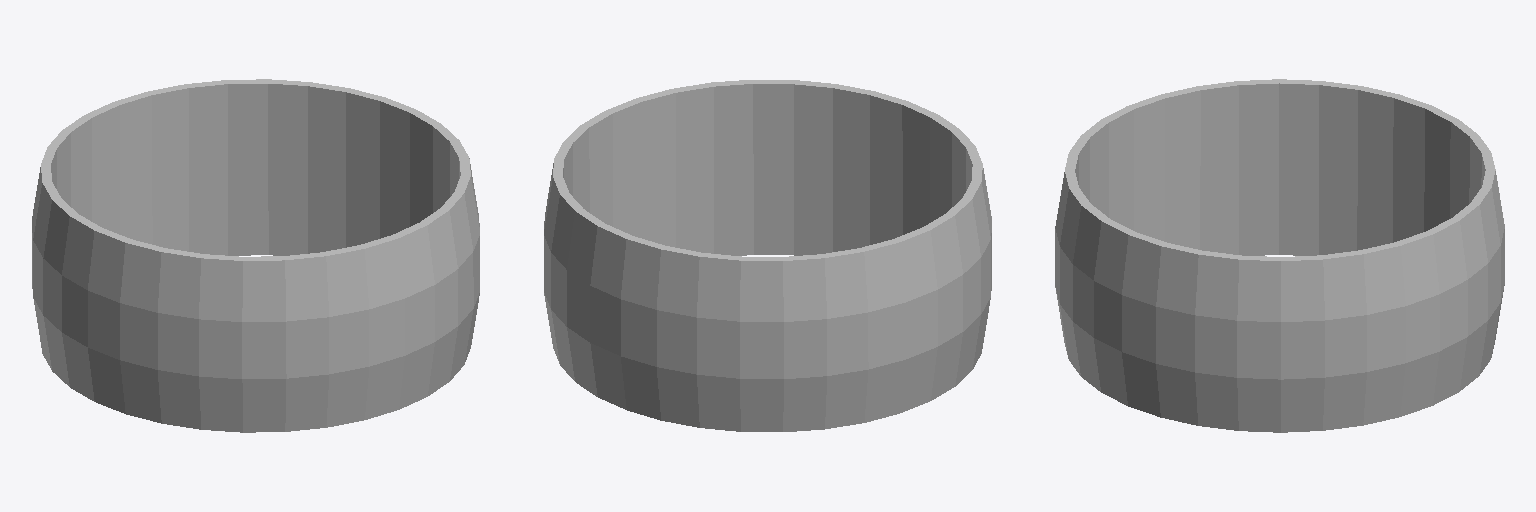
The model's file is SpaceStation3.obj.
3 views of the same model, side by side, from view 1: azimuth 30°, elevation 25°; view 2: azimuth 150°, elevation 25°; view 3: azimuth 270°, elevation 25° (orthographic).
Visible parts, largest first — view 1: SpaceStation2:pTorus1; view 2: SpaceStation2:pTorus1; view 3: SpaceStation2:pTorus1.
Part boxes in pixels (x1,y1,x2,y2): SpaceStation2:pTorus1: (32, 79, 479, 432); SpaceStation2:pTorus1: (544, 80, 991, 431); SpaceStation2:pTorus1: (1055, 79, 1504, 432).
Size of the model in its own units: 32.13 by 13.52 by 32.14.